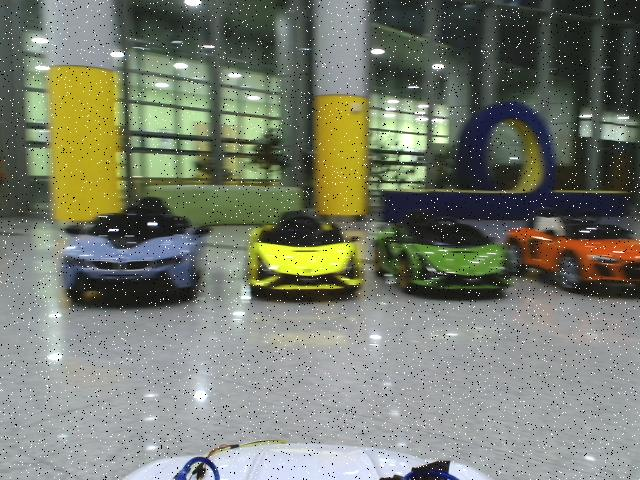car: (61, 197, 213, 300), (505, 205, 640, 293), (373, 212, 512, 296), (247, 210, 363, 297)
